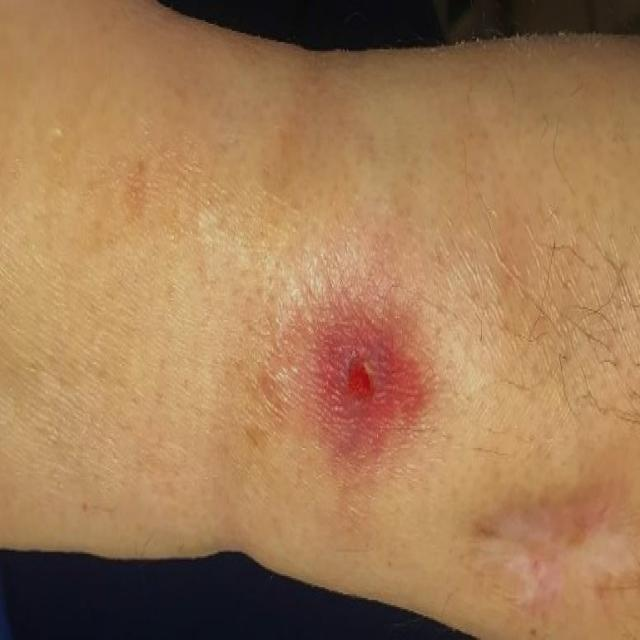stage-2: (348, 351, 370, 399)
